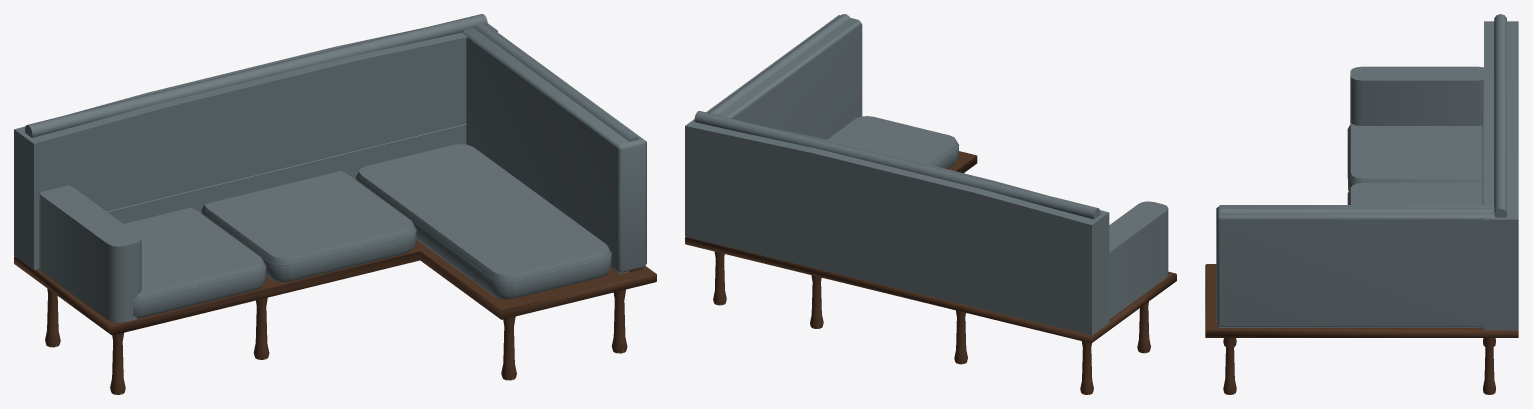
The model's file is rpg-mansion-corner-settee-right-01.glb.
The picture shows the model from 3 angles, left to right: view 1: azimuth 30°, elevation 25°; view 2: azimuth 150°, elevation 25°; view 3: azimuth 270°, elevation 25°; orthographic projection. The views are drawn at different scales.
Parts seen in each view (by area): view 1: rpg-mansion-corner-settee-right-01; view 2: rpg-mansion-corner-settee-right-01; view 3: rpg-mansion-corner-settee-right-01.
Boxes of the visible parts, box(x1,y1,x2,y2) form: rpg-mansion-corner-settee-right-01: box(14, 14, 656, 394); rpg-mansion-corner-settee-right-01: box(685, 14, 1176, 394); rpg-mansion-corner-settee-right-01: box(1205, 14, 1518, 394).
Bounding box in the file's own units: 2.1 × 0.95 × 1.4.
